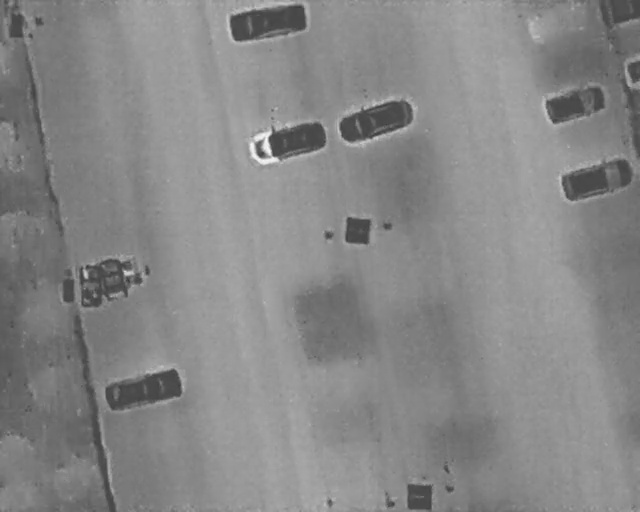Car: (243, 110, 331, 170), (333, 90, 418, 151), (100, 363, 186, 415), (557, 153, 635, 204), (541, 79, 611, 129), (228, 4, 308, 43)
